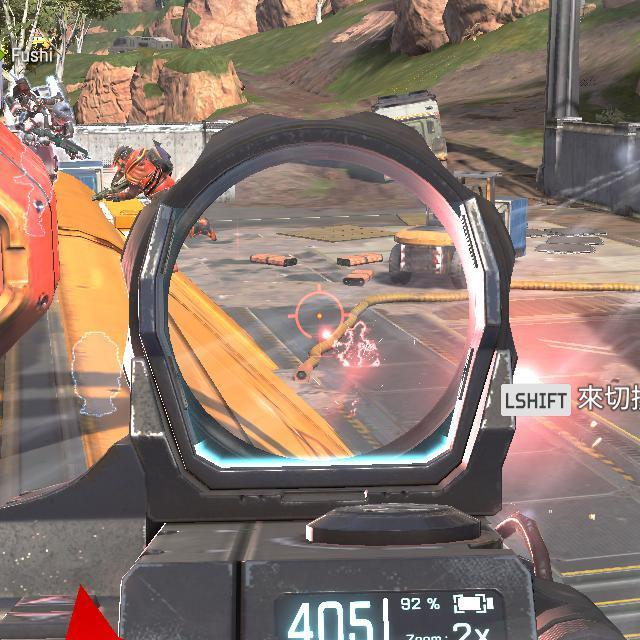avatar: (3, 75, 78, 239), (110, 141, 175, 204)
